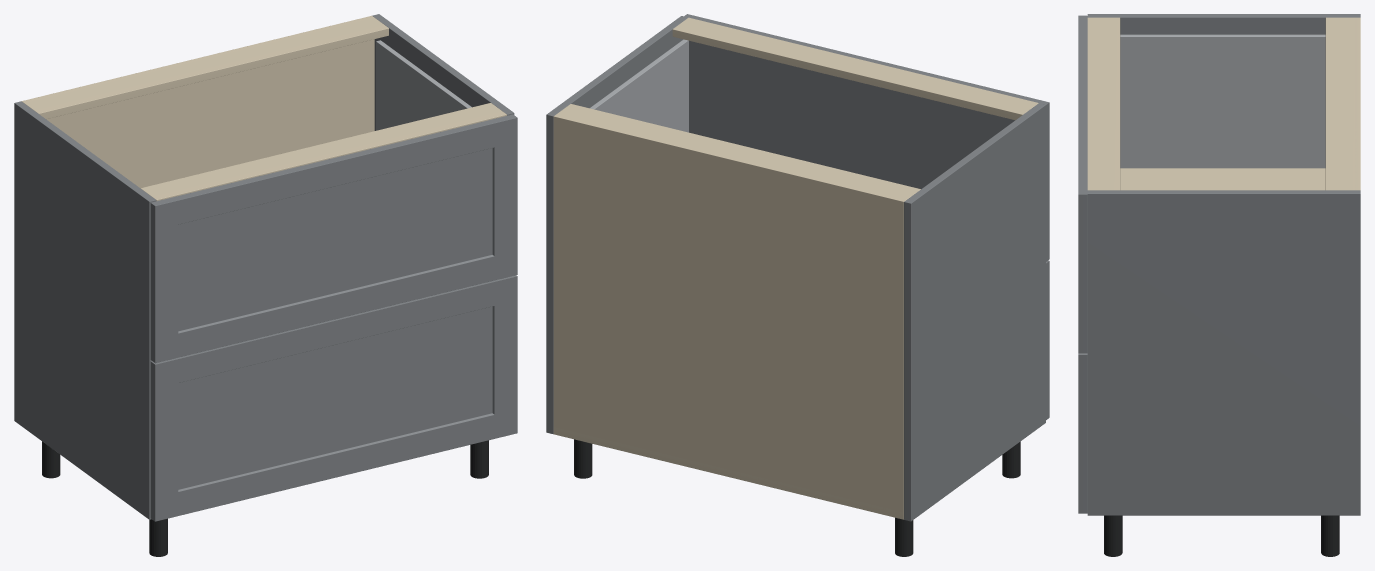
The model's file is oppein-ply-gss-2db36.glb.
The picture shows the model from 3 angles, left to right: view 1: azimuth 30°, elevation 25°; view 2: azimuth 150°, elevation 25°; view 3: azimuth 270°, elevation 25°; orthographic projection.
Parts seen in each view (by area): view 1: Drawer front.001, Drawer front, Cabinet side, Cabinet back, Top support rail, Top support rail.001, Drawer side.003, Cabinet side.001, Adjustable foot.001, Adjustable foot.003; view 2: Cabinet back, Cabinet side, Drawer front.001, Top support rail.001, Cabinet side.001, Top support rail, Drawer side.003, Cabinet bottom, Adjustable foot, Adjustable foot.002, Drawer front; view 3: Cabinet side.001, Drawer side.002, Top support rail.001, Top support rail, Drawer floor.001, Cabinet side, Drawer front.001, Drawer front, Cabinet back, Adjustable foot.003, Adjustable foot.002.
Boxes of the visible parts, x1,y1,x2,y2 form: Drawer front.001: [150, 114, 517, 363]; Drawer front: [150, 275, 517, 521]; Cabinet side: [14, 101, 156, 519]; Cabinet back: [21, 15, 374, 188]; Top support rail: [23, 17, 388, 119]; Top support rail.001: [141, 103, 506, 201]; Drawer side.003: [376, 40, 471, 130]; Cabinet side.001: [372, 14, 514, 130]; Adjustable foot.001: [149, 518, 167, 556]; Adjustable foot.003: [470, 440, 488, 478]; Cabinet back: [553, 114, 905, 519]; Cabinet side: [904, 103, 1045, 521]; Drawer front.001: [684, 14, 1049, 261]; Top support rail.001: [672, 17, 1038, 120]; Cabinet side.001: [546, 16, 688, 434]; Top support rail: [556, 104, 920, 199]; Drawer side.003: [590, 39, 688, 132]; Cabinet bottom: [553, 427, 903, 518]; Adjustable foot: [895, 517, 913, 556]; Adjustable foot.002: [574, 439, 592, 478]; Drawer front: [1046, 260, 1049, 419]; Cabinet side.001: [1087, 190, 1360, 515]; Drawer side.002: [1120, 34, 1325, 168]; Top support rail.001: [1087, 17, 1120, 190]; Top support rail: [1325, 17, 1357, 190]; Drawer floor.001: [1120, 168, 1325, 190]; Cabinet side: [1087, 14, 1360, 34]; Drawer front.001: [1078, 15, 1087, 353]; Drawer front: [1078, 353, 1087, 513]; Cabinet back: [1355, 17, 1360, 190]; Adjustable foot.003: [1104, 515, 1122, 556]; Adjustable foot.002: [1321, 515, 1339, 556].
Bounding box in the file's own units: 0.9144 × 0.8763 × 0.6064.
